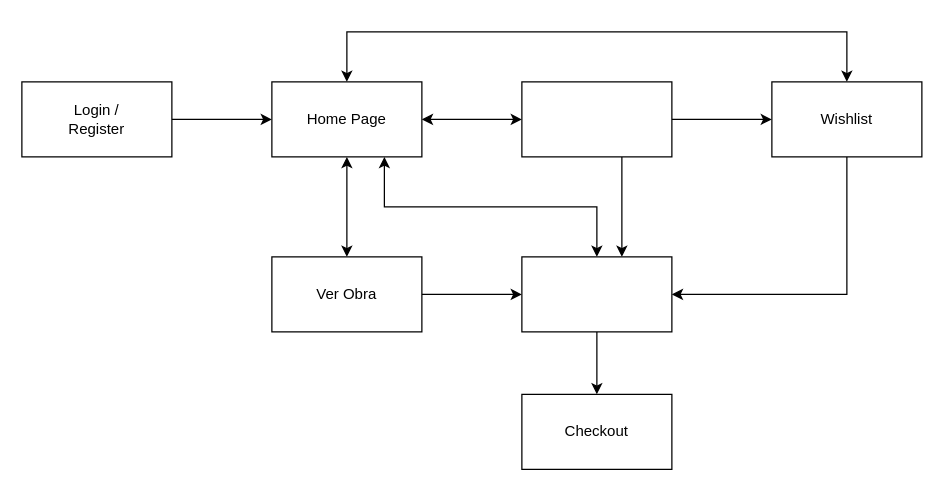
Image size: 944x491. Some labels were removed from this diagram. Here are the shapes that lost their labels. From the top down, the centre of each, then its label:
(x=596, y=119): Perfil
(x=596, y=294): Carrinho
